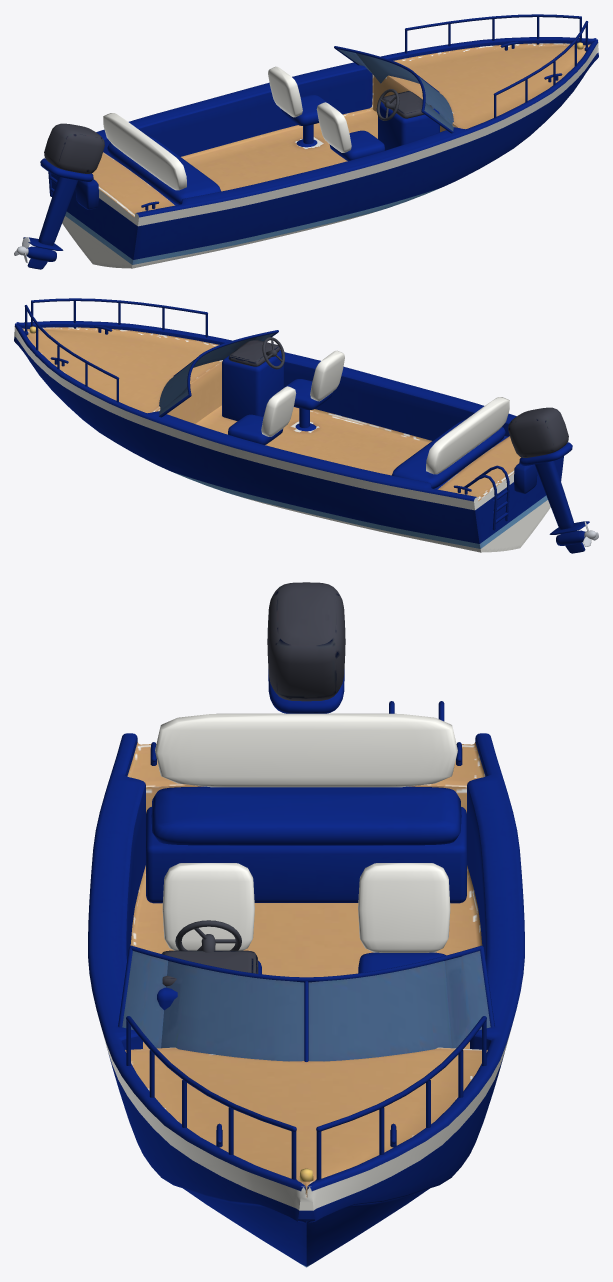
The model's file is lancha-ventura-190-2008.glb.
The picture shows the model from 3 angles, top to bottom: view 1: azimuth 30°, elevation 25°; view 2: azimuth 150°, elevation 25°; view 3: azimuth 270°, elevation 25°; orthographic projection. The views are drawn at different scales.
Parts seen in each view (by area): view 1: motorboat_body, motorboat_steering_wheel; view 2: motorboat_body, motorboat_steering_wheel; view 3: motorboat_body, motorboat_steering_wheel.
Part boxes in pixels (x1=…): motorboat_body: x1=23, y1=14, x2=598, y2=269; motorboat_steering_wheel: x1=376, y1=89, x2=399, y2=120; motorboat_body: x1=14, y1=298, x2=589, y2=553; motorboat_steering_wheel: x1=262, y1=337, x2=284, y2=369; motorboat_body: x1=88, y1=582, x2=524, y2=1267; motorboat_steering_wheel: x1=175, y1=920, x2=241, y2=952.
Size of the model in its own units: 5.79 by 1.41 by 1.89.
3 materials, 1 textured.
